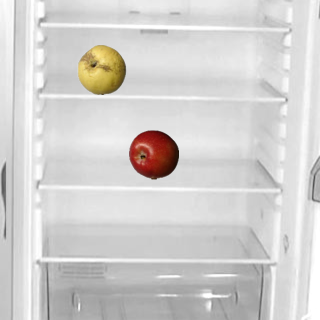Apple Braeburn: (128, 129, 178, 179)
Apple Golden 1: (76, 44, 126, 94)
